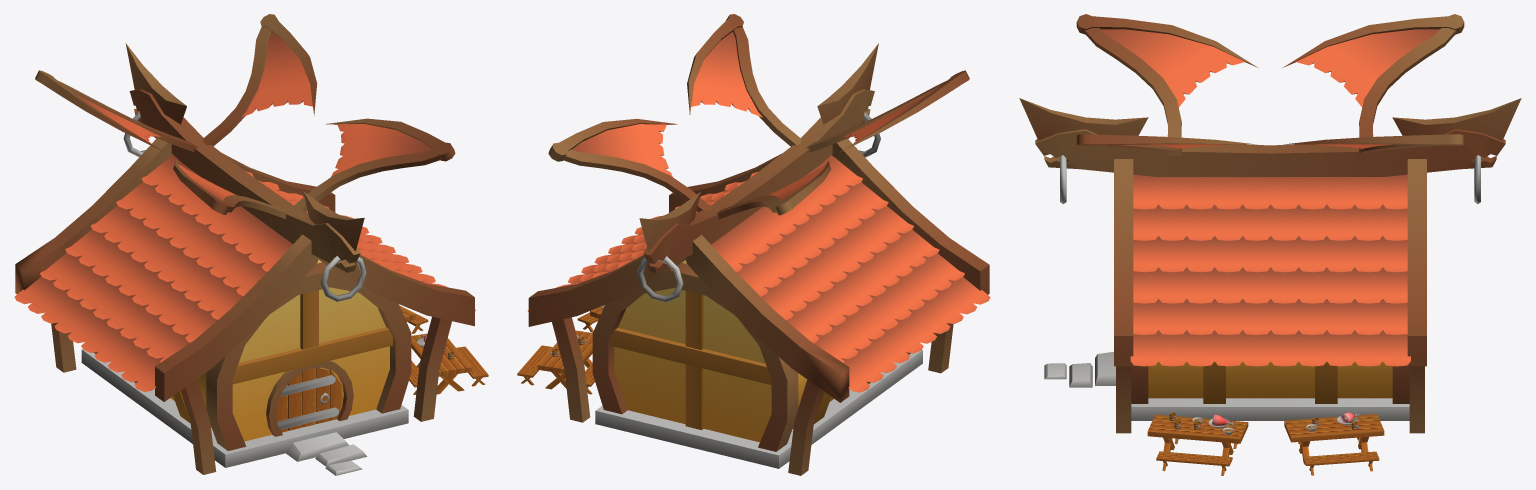
The model's file is VikingHouse_05_XXL.fbx.
The picture shows the model from 3 angles, left to right: view 1: azimuth 30°, elevation 25°; view 2: azimuth 150°, elevation 25°; view 3: azimuth 270°, elevation 25°; orthographic projection. The views are drawn at different scales.
Visible parts, largest first — view 1: VikingHouse_05_XXL; view 2: VikingHouse_05_XXL; view 3: VikingHouse_05_XXL.
Part boxes in pixels (bbox=[...]): VikingHouse_05_XXL: bbox=[14, 14, 488, 475]; VikingHouse_05_XXL: bbox=[517, 14, 990, 475]; VikingHouse_05_XXL: bbox=[1019, 14, 1521, 475].
Size of the model in its own units: 577 by 427 by 647.
